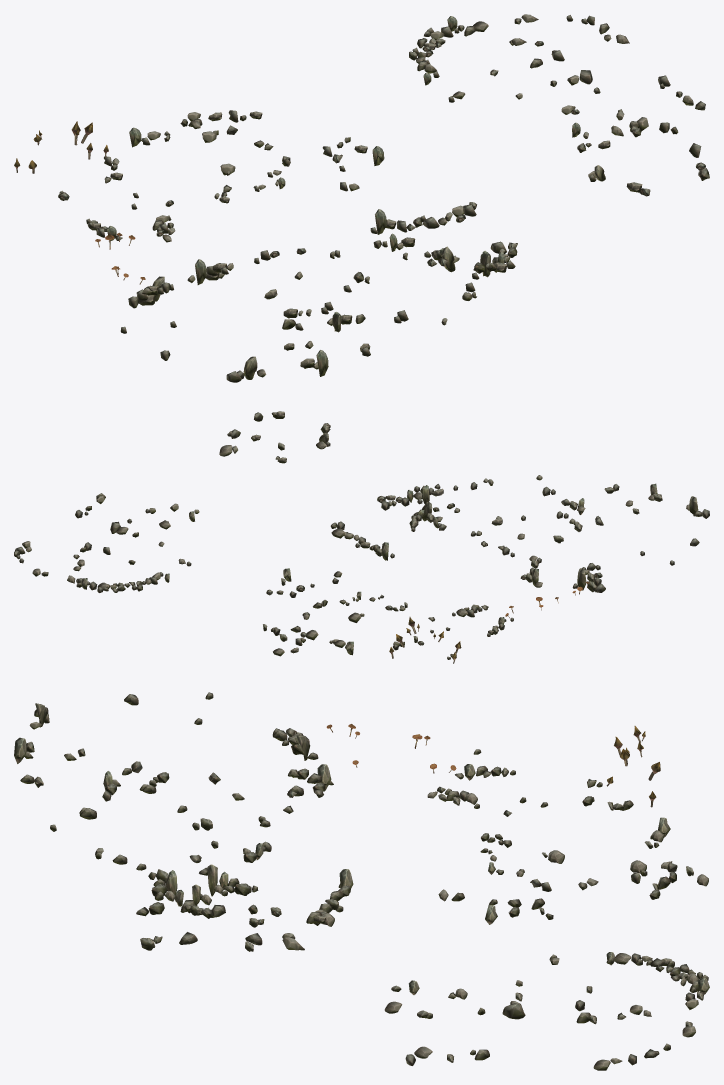
Rendered from smallprops2.glb.
3 renders of one model, top to bottom at view 1: azimuth 30°, elevation 25°; view 2: azimuth 150°, elevation 25°; view 3: azimuth 270°, elevation 25°, orthographic. The views are drawn at different scales.
Parts seen in each view (by area): view 1: pasted__Small_68.002, pasted__Small_6.001, pasted__Small_7.001, pasted__Small_5, pasted__Small_4.005, pasted__Small_170, pasted__Small_10.001, pasted__Small_16, pasted__Small_18, pasted__Small_8.003, pasted__Small_137, pasted__Small_114 (+3 smaller); view 2: pasted__Small_68.002, pasted__Small_7.001, pasted__Small_6.001, pasted__Small_16, pasted__Small_4.005, pasted__Small_5, pasted__Small_170, pasted__Small_10.001, pasted__Small_8.003, pasted__Small_137, pasted__Small_18, pasted__Small_127 (+1 smaller); view 3: pasted__Small_68.002, pasted__Small_6.001, pasted__Small_4.005, pasted__Small_170, pasted__Small_16, pasted__Small_5, pasted__Small_7.001, pasted__Small_8.003, pasted__Small_137, pasted__Small_18, pasted__Small_10.001, pasted__Small_127 (+2 smaller).
Part boxes in pixels (bbox=[...]): pasted__Small_68.002: bbox=[409, 14, 629, 85]; pasted__Small_6.001: bbox=[282, 302, 447, 376]; pasted__Small_7.001: bbox=[128, 259, 233, 308]; pasted__Small_5: bbox=[129, 110, 273, 150]; pasted__Small_4.005: bbox=[577, 117, 709, 196]; pasted__Small_170: bbox=[448, 70, 705, 138]; pasted__Small_10.001: bbox=[370, 202, 476, 234]; pasted__Small_16: bbox=[462, 241, 517, 300]; pasted__Small_18: bbox=[14, 121, 173, 209]; pasted__Small_8.003: bbox=[86, 215, 175, 284]; pasted__Small_137: bbox=[373, 233, 459, 272]; pasted__Small_114: bbox=[322, 137, 384, 191]; pasted__Small_68.002: bbox=[14, 541, 169, 592]; pasted__Small_7.001: bbox=[520, 555, 605, 592]; pasted__Small_6.001: bbox=[536, 475, 662, 531]; pasted__Small_16: bbox=[377, 478, 493, 510]; pasted__Small_4.005: bbox=[219, 411, 330, 463]; pasted__Small_5: bbox=[263, 612, 353, 656]; pasted__Small_170: bbox=[75, 493, 199, 566]; pasted__Small_10.001: bbox=[330, 521, 394, 560]; pasted__Small_8.003: bbox=[452, 581, 589, 636]; pasted__Small_137: bbox=[409, 501, 459, 531]; pasted__Small_18: bbox=[389, 617, 461, 663]; pasted__Small_127: bbox=[313, 591, 407, 622]; pasted__Small_68.002: bbox=[575, 952, 709, 1070]; pasted__Small_6.001: bbox=[14, 737, 169, 831]; pasted__Small_4.005: bbox=[136, 884, 304, 951]; pasted__Small_170: bbox=[384, 954, 559, 1065]; pasted__Small_16: bbox=[95, 848, 225, 918]; pasted__Small_5: bbox=[578, 817, 708, 899]; pasted__Small_7.001: bbox=[272, 728, 333, 797]; pasted__Small_8.003: bbox=[326, 724, 515, 808]; pasted__Small_137: bbox=[189, 840, 271, 896]; pasted__Small_18: bbox=[503, 726, 660, 816]; pasted__Small_10.001: bbox=[306, 869, 353, 926]; pasted__Small_127: bbox=[480, 833, 564, 891].
Size of the model in its own units: 5267 by 628 by 4254.
2 materials, 2 textured.
